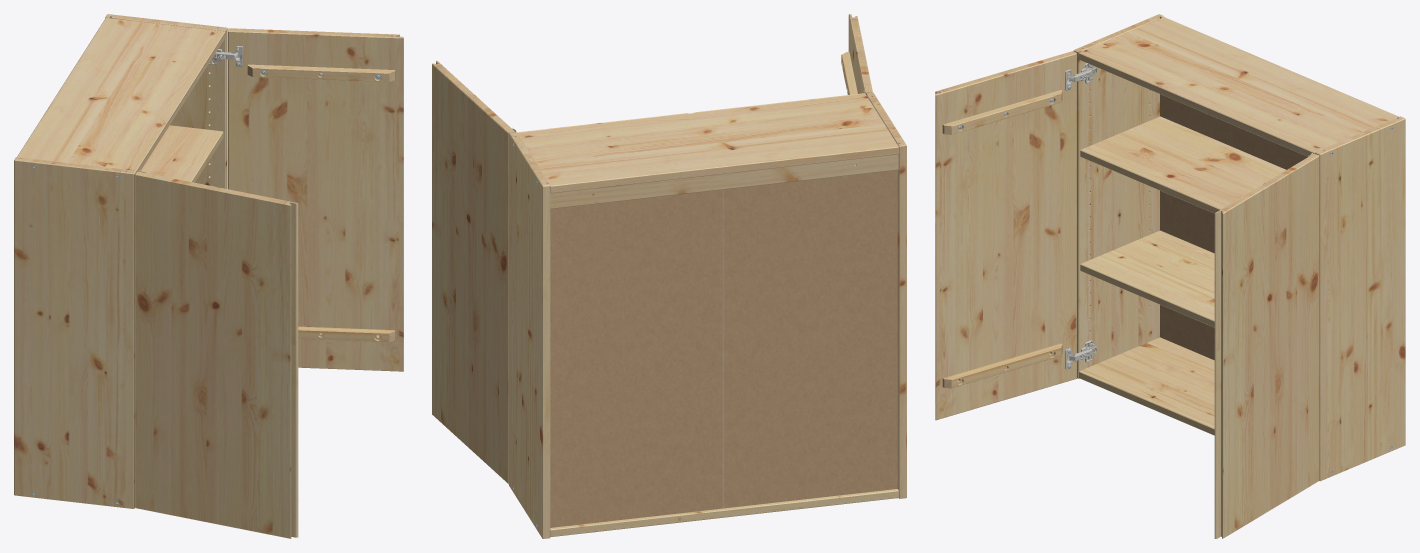
The model's file is ivarBuildStep8-cRdU5zFR.glb.
3 renders of one model, left to right at view 1: azimuth 30°, elevation 25°; view 2: azimuth 150°, elevation 25°; view 3: azimuth 270°, elevation 25°, orthographic. The views are drawn at different scales.
Parts seen in each view (by area): view 1: IVAR, Door, Door2, Hylla1; view 2: IVAR, Door2, Door; view 3: IVAR, Door, Door2, Hylla1, HYLLA2.
Boxes of the visible parts, x1,y1,x2,y2 form: IVAR: [14, 14, 227, 508]; Door: [135, 170, 298, 538]; Door2: [213, 28, 403, 371]; Hylla1: [141, 125, 223, 182]; IVAR: [508, 92, 906, 538]; Door2: [432, 60, 516, 483]; Door: [841, 14, 872, 94]; IVAR: [1073, 14, 1405, 481]; Door: [935, 51, 1091, 420]; Door2: [1214, 153, 1319, 538]; Hylla1: [1080, 116, 1285, 213]; HYLLA2: [1080, 230, 1214, 327].
Bounding box in the file's own units: 1.08 × 0.8266 × 1.08.
5 materials, 5 textured.
